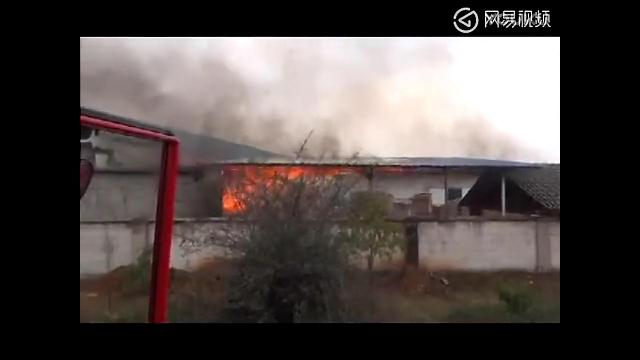fire: (239, 165, 303, 179), (221, 188, 247, 212)
